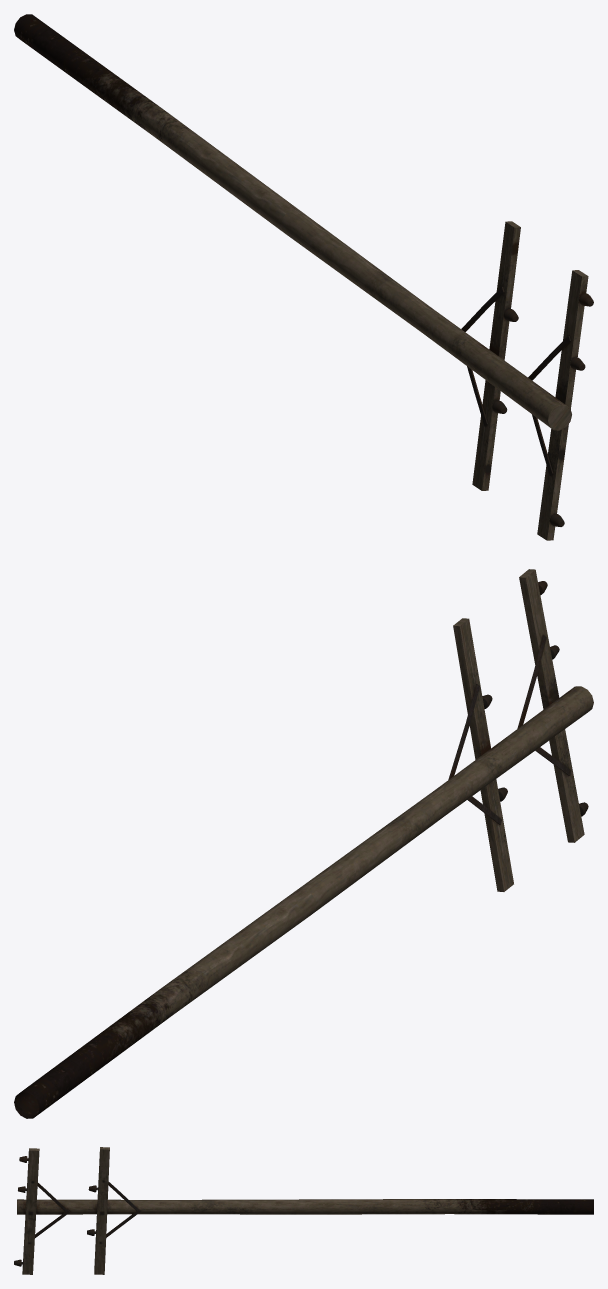
Rendered from hd_env_101_RoadPoles_02.glb.
The picture shows the model from 3 angles, top to bottom: view 1: azimuth 30°, elevation 25°; view 2: azimuth 150°, elevation 25°; view 3: azimuth 270°, elevation 25°; orthographic projection. The views are drawn at different scales.
Parts seen in each view (by area): view 1: set_0_group_0; view 2: set_0_group_0; view 3: set_0_group_0.
Boxes of the visible parts, box(x1,y1,x2,y2) form: set_0_group_0: box(14, 14, 593, 540); set_0_group_0: box(14, 569, 593, 1118); set_0_group_0: box(14, 1147, 593, 1274).
Bounding box in the file's own units: 0.5064 × 2.36 × 9.09.
Materials: 1 (1 with a texture image).
